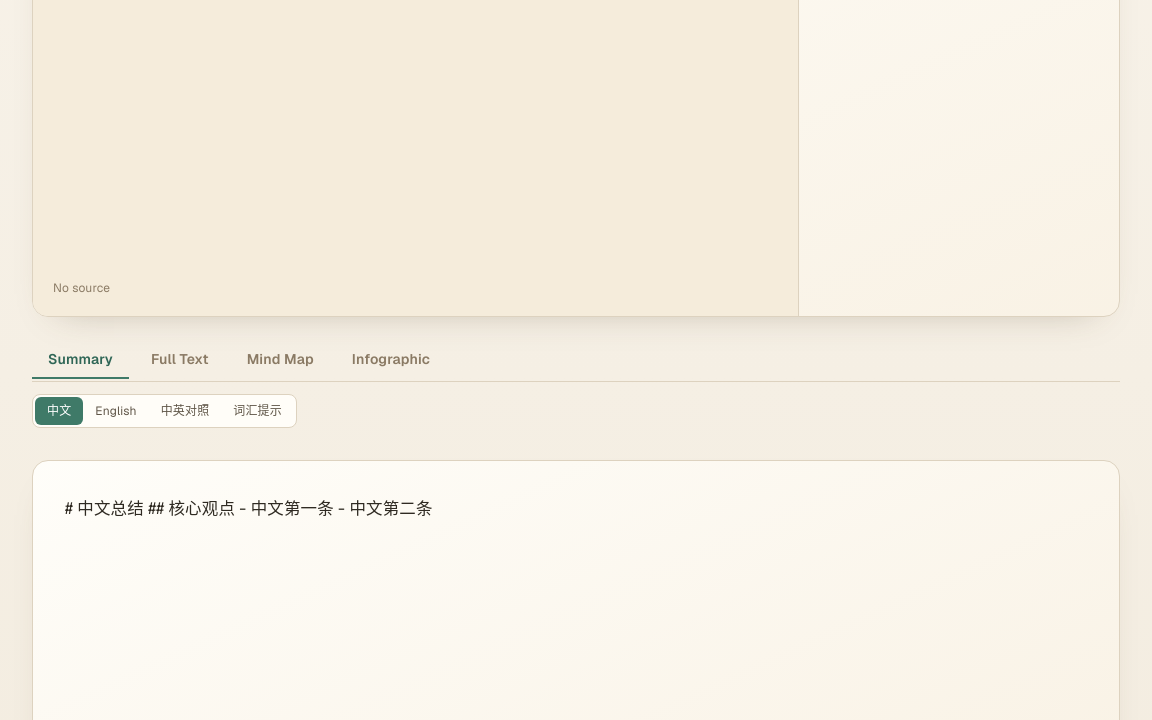
Test: DashboardPage language modes › renders hint mode with interactive dictionary links on english full text
(page scrolled)
Click the button "Full Text". click: (180, 360)
box: [135, 341, 225, 379]
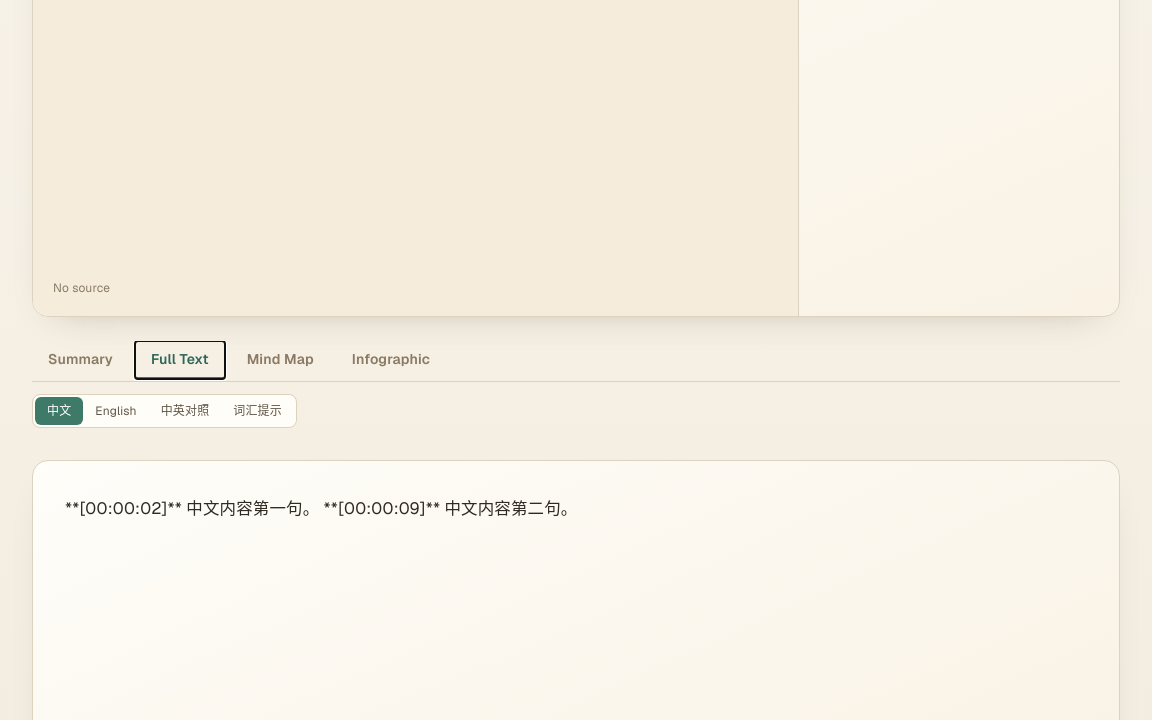
Click the button "词汇提示". click: (258, 411)
box: [221, 397, 294, 425]
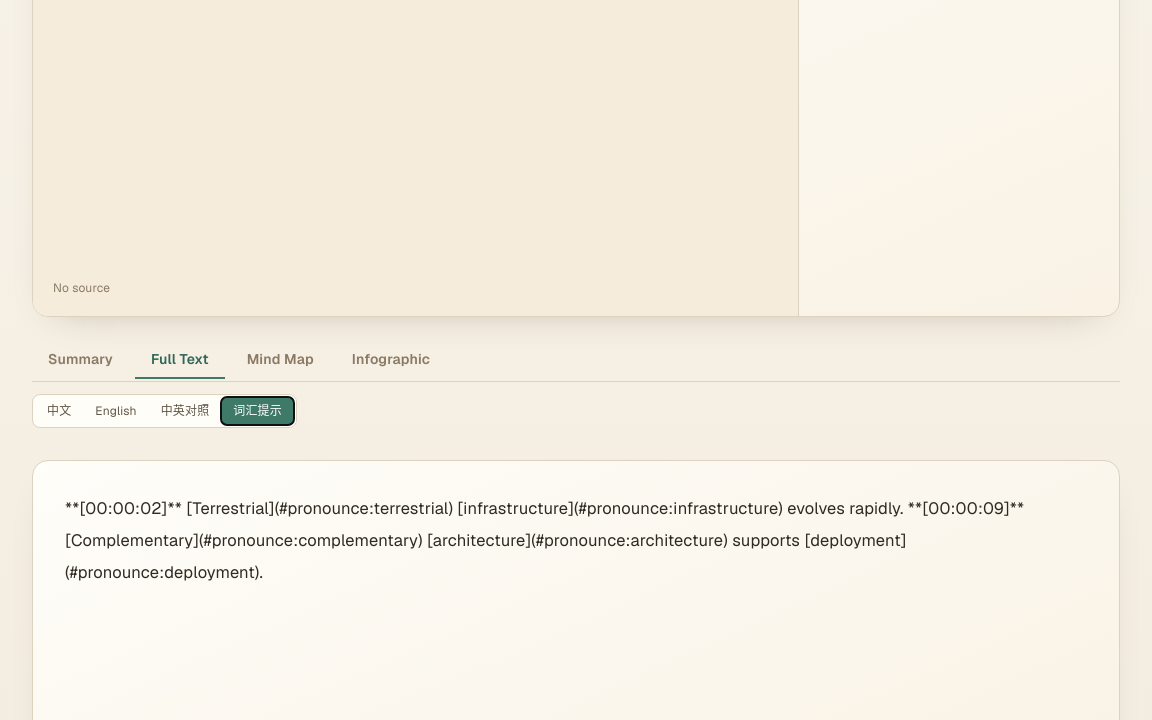
Check: the text "Terrestrial" is shown, box [65, 497, 1024, 583]
Check: the text "infrastructure" is shown, box [65, 497, 1024, 583]
Check: the text "evolves rapidly." is shown, box [65, 497, 1024, 583]
